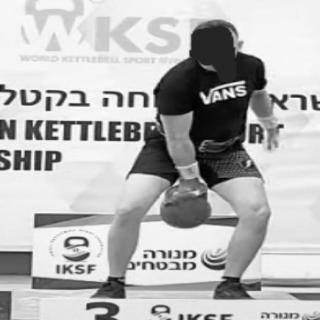kettlebell: (162, 184, 217, 232)
